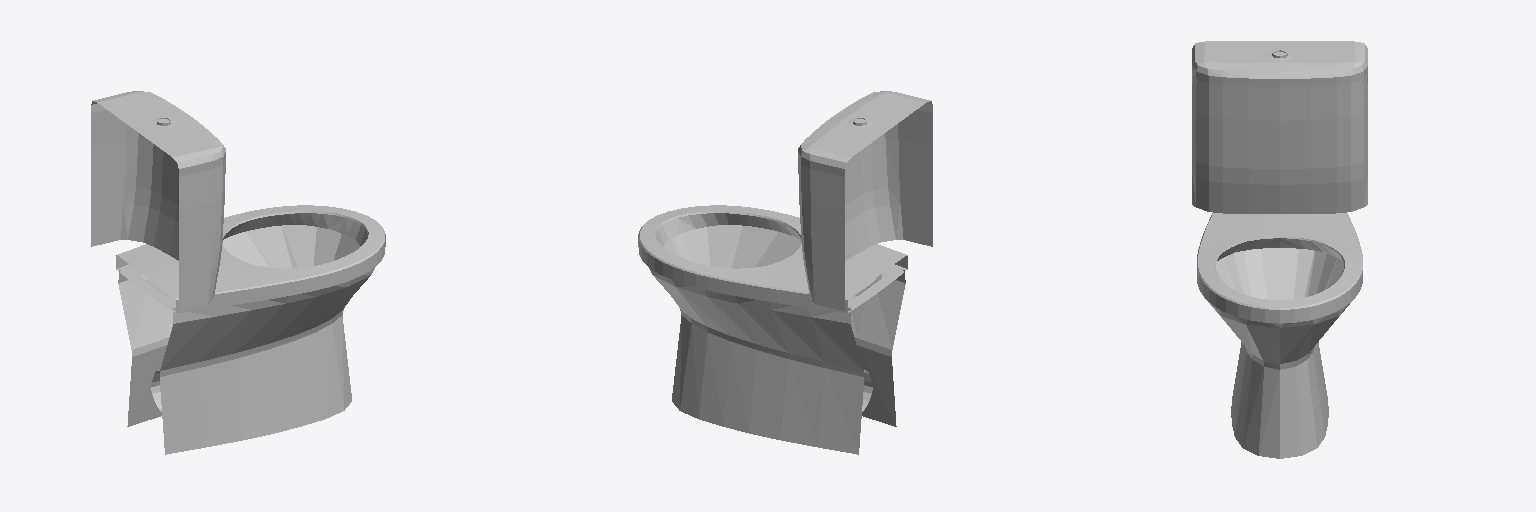
Rendered from toilet.obj.
The picture shows the model from 3 angles: view 1: azimuth 30°, elevation 25°; view 2: azimuth 150°, elevation 25°; view 3: azimuth 270°, elevation 25°; orthographic projection.
Visible parts, largest first — view 1: base_Untitled; view 2: base_Untitled; view 3: base_Untitled.
Part boxes in pixels (left/top/right/bottom): base_Untitled: left=91, top=91, right=385, bottom=454; base_Untitled: left=638, top=91, right=932, bottom=454; base_Untitled: left=1192, top=41, right=1367, bottom=458.
Size of the model in its own units: 0.7592 by 0.9484 by 0.4773.